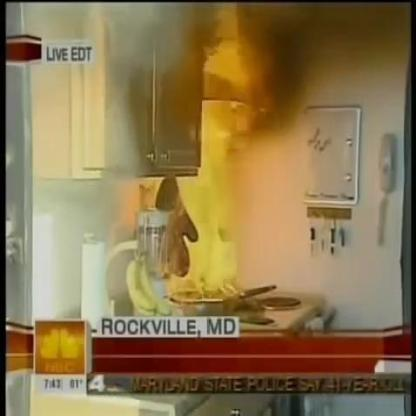fire: (159, 0, 275, 300)
